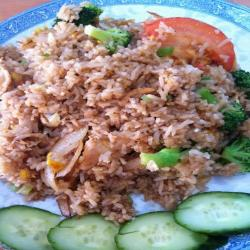rice: (1, 37, 201, 195)
